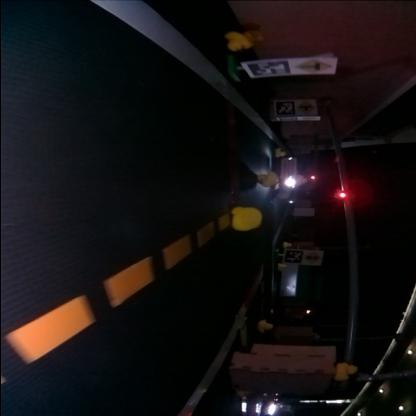Duckie: (232, 209, 262, 232), (228, 33, 250, 51), (335, 367, 356, 382), (258, 173, 278, 187), (260, 322, 272, 332)
Intersection sign: (296, 61, 334, 74), (296, 104, 316, 116)
QR code: (246, 61, 288, 78), (276, 102, 294, 116), (286, 251, 300, 263)
Traffic light: (336, 191, 350, 200)
